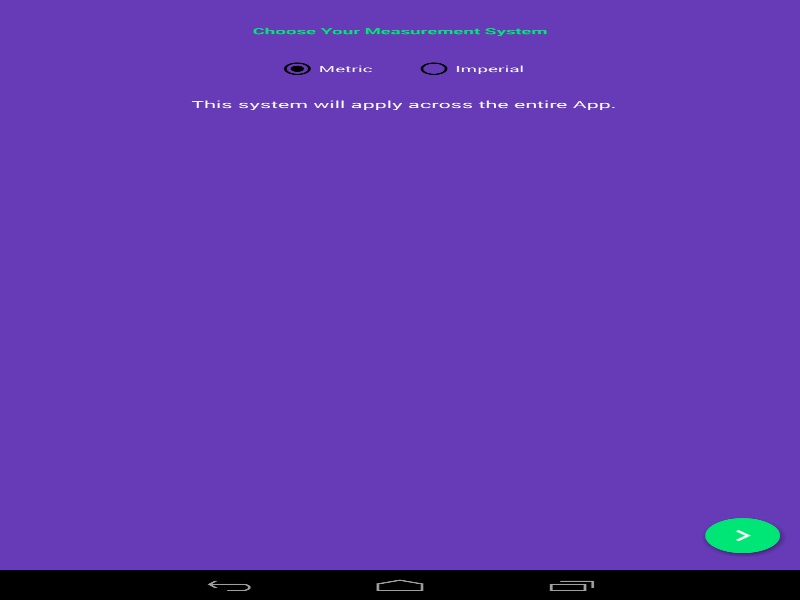Button: (301, 231, 408, 281), (650, 231, 757, 281), (698, 513, 786, 557), (733, 0, 800, 33), (733, 50, 800, 83), (0, 0, 66, 33), (0, 50, 66, 83), (0, 100, 66, 133), (710, 428, 764, 453), (29, 262, 82, 287), (176, 262, 229, 287), (29, 445, 82, 470), (144, 445, 197, 470), (90, 423, 136, 445)
Input: (262, 428, 690, 448)
